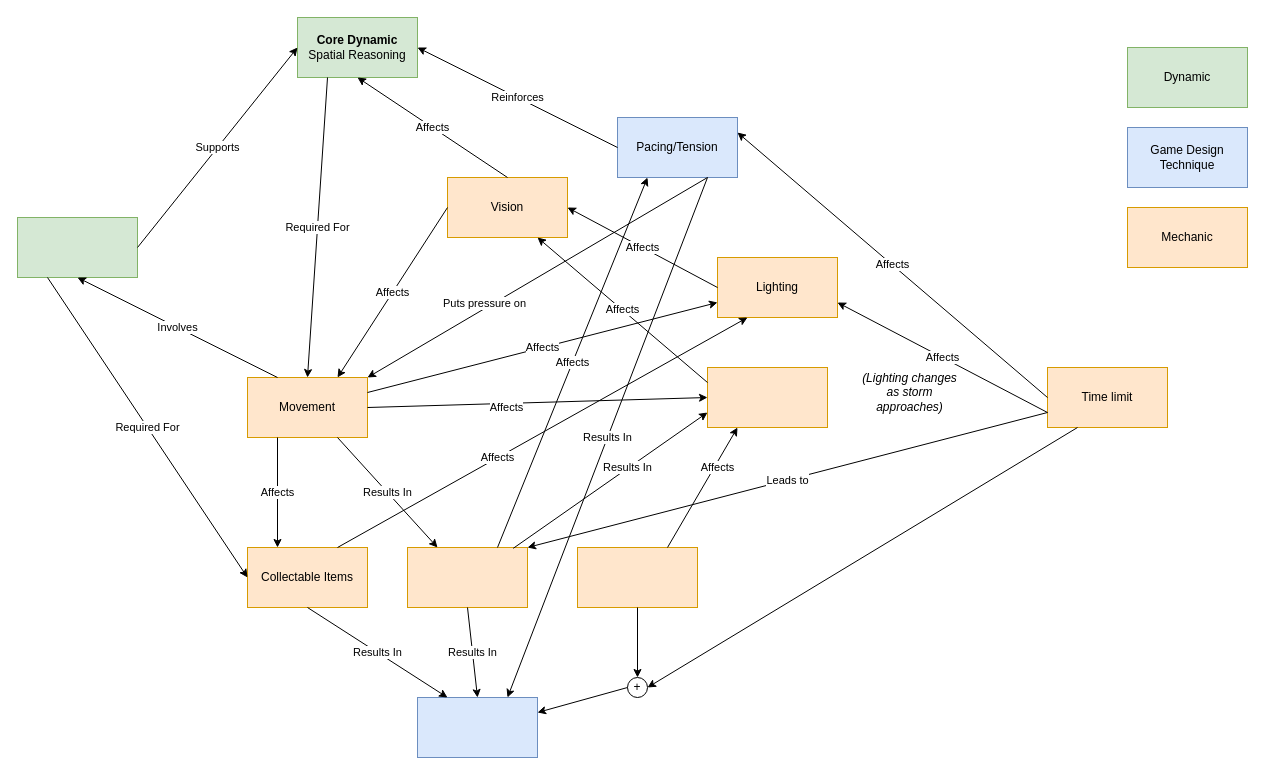
Image size: 1265x775. Some labels were removed from this diagram. The shapes that lost their labels are listed below. From the top down, each one's centre as x and y in pixels, then its label:
At pixel 77 247: "Exploration".
At pixel 767 397: "Painting".
At pixel 467 577: "Death".
At pixel 637 577: "Paint Shooting".
At pixel 477 727: "Risk / Reward".
